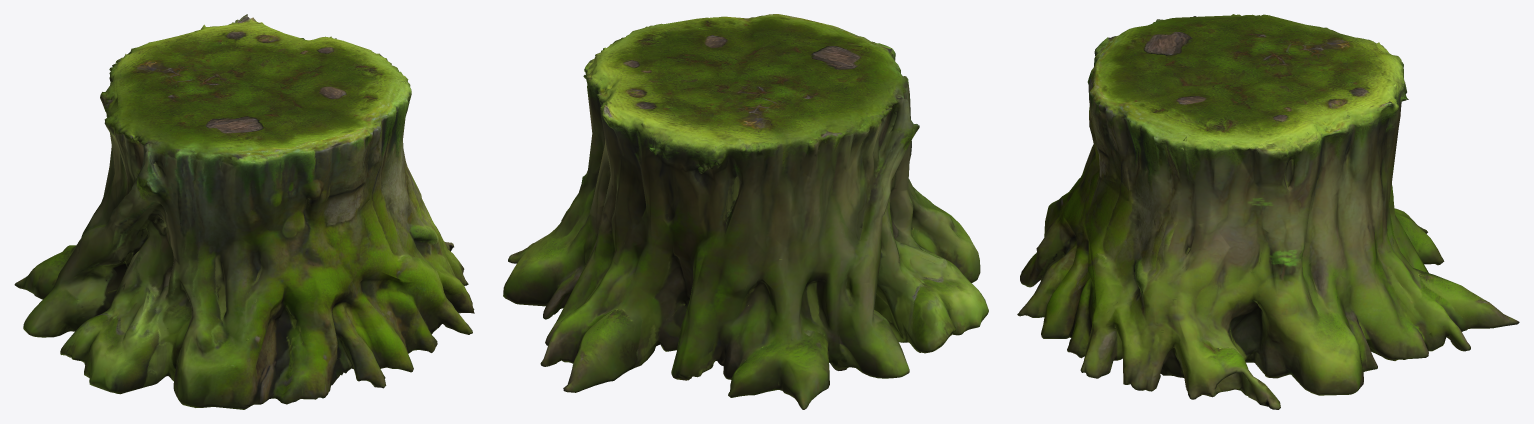
File: arbol.obj
The picture shows the model from 3 angles, left to right: view 1: azimuth 30°, elevation 25°; view 2: azimuth 150°, elevation 25°; view 3: azimuth 270°, elevation 25°; orthographic projection. The views are drawn at different scales.
Parts seen in each view (by area): view 1: mossy_green_trunk5_LOW_RES; view 2: mossy_green_trunk5_LOW_RES; view 3: mossy_green_trunk5_LOW_RES.
Part boxes in pixels (x1,y1,x2,y2): mossy_green_trunk5_LOW_RES: (14, 14, 474, 409); mossy_green_trunk5_LOW_RES: (503, 14, 988, 409); mossy_green_trunk5_LOW_RES: (1017, 14, 1519, 409).
Size of the model in its own units: 0.9734 by 0.5281 by 1.
